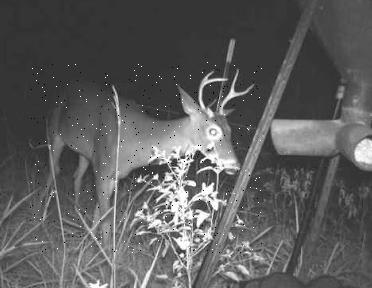Deer: (30, 62, 263, 253)
